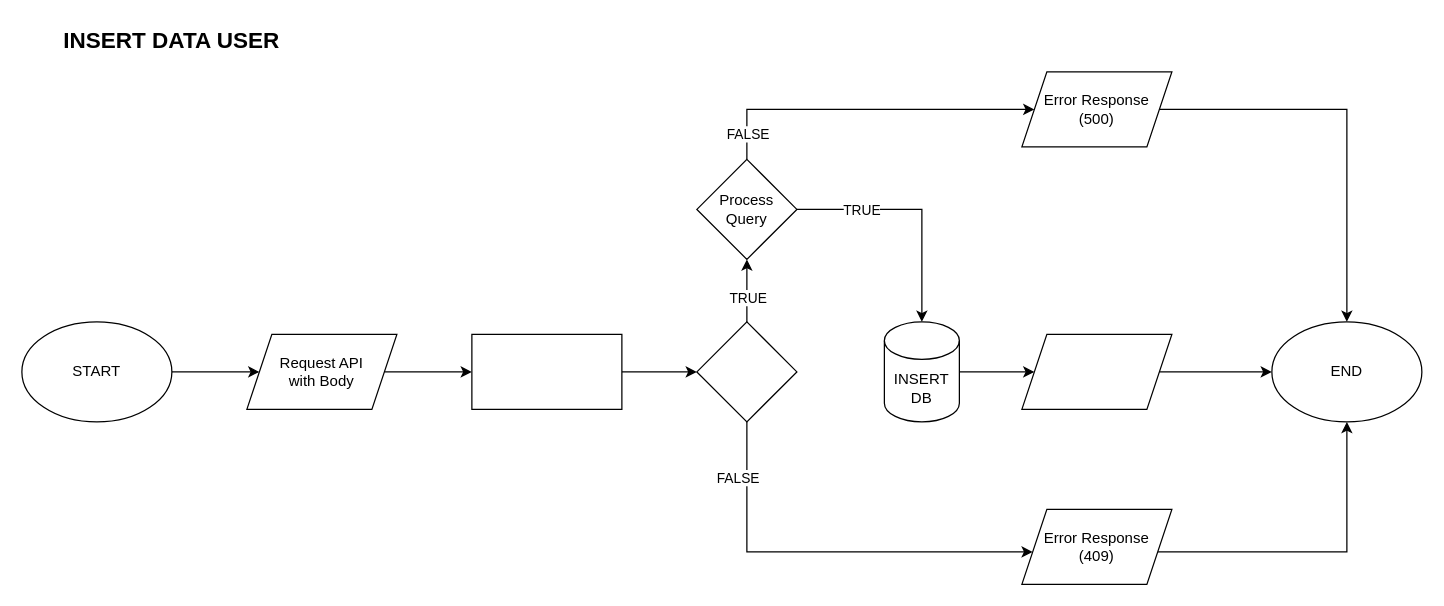
This 1444x606 diagram has some shape labels left out. Each missing label, with the box of its shape:
Check Duplicate: (696, 321, 797, 422)
Process Route: (471, 333, 622, 409)
Response Data: (1021, 333, 1172, 409)
